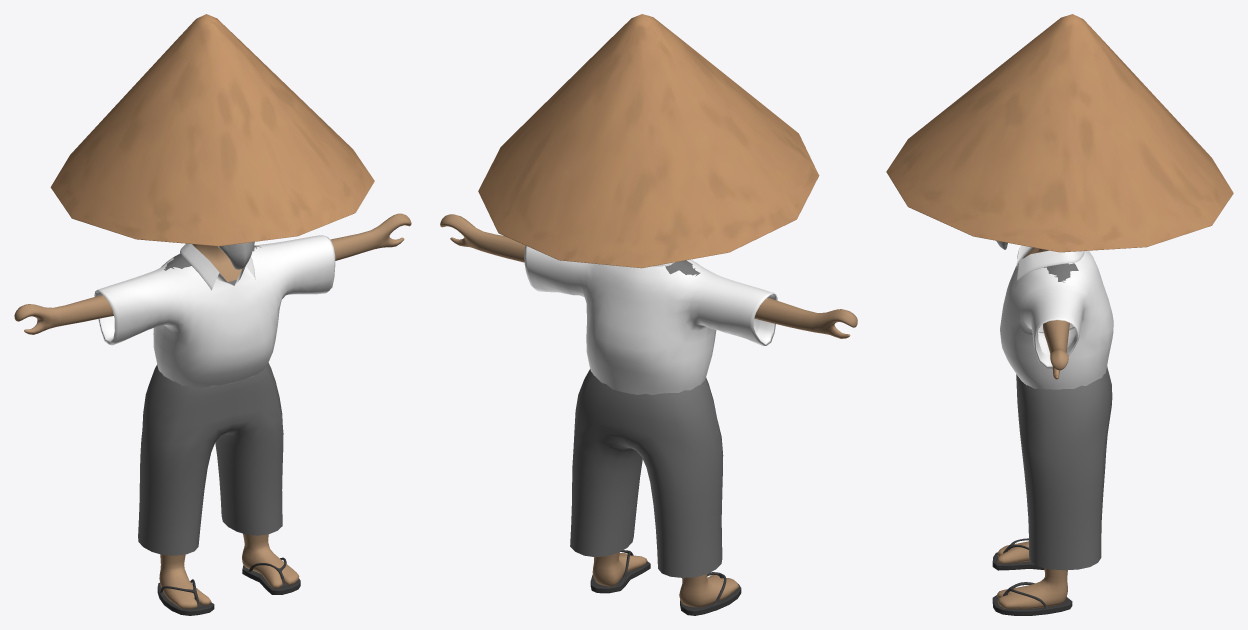
File: boatman.fbx
3 renders of one model, left to right at view 1: azimuth 30°, elevation 25°; view 2: azimuth 150°, elevation 25°; view 3: azimuth 270°, elevation 25°, orthographic. The views are drawn at different scales.
Visible parts, largest first — view 1: boatman; view 2: boatman; view 3: boatman.
Part boxes in pixels (box(x1,y1,x2,y2)): boatman: box(14, 14, 411, 615); boatman: box(440, 14, 857, 615); boatman: box(886, 14, 1233, 615).
Size of the model in its own units: 1.02 by 1.38 by 0.7633.
1 material, 1 textured.
